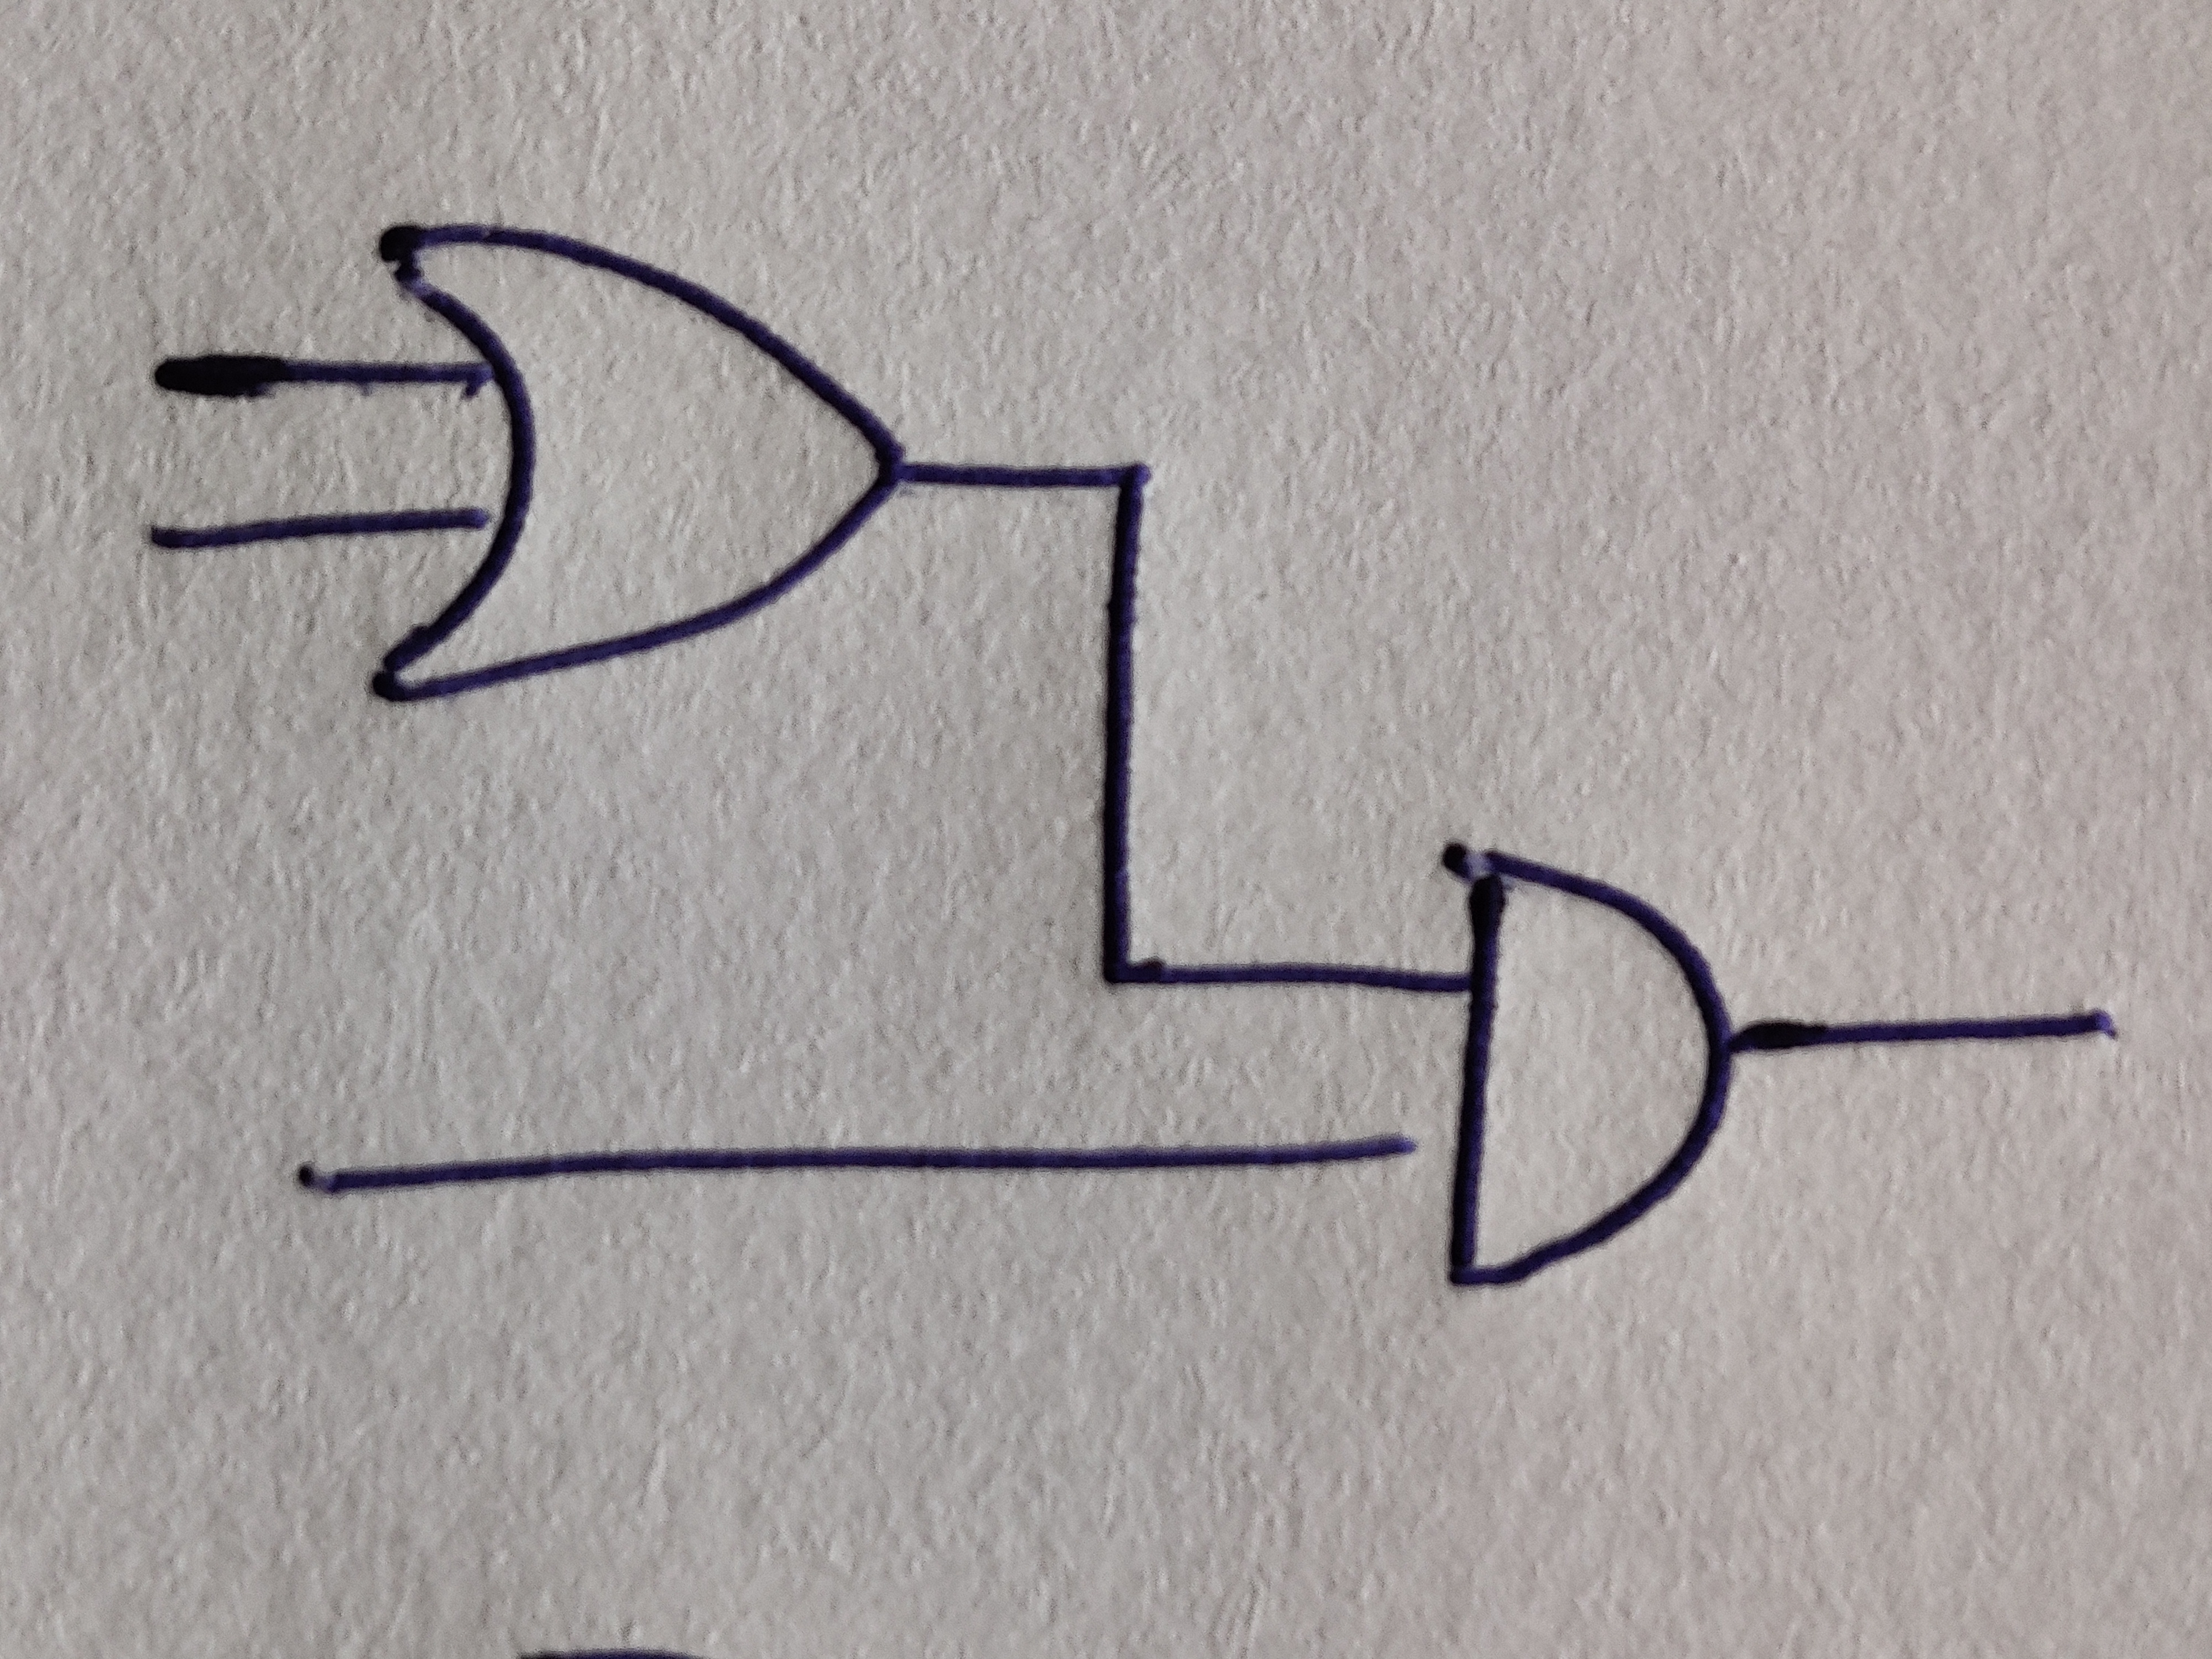and: (1449, 852, 1731, 1288)
or: (369, 223, 904, 702)
